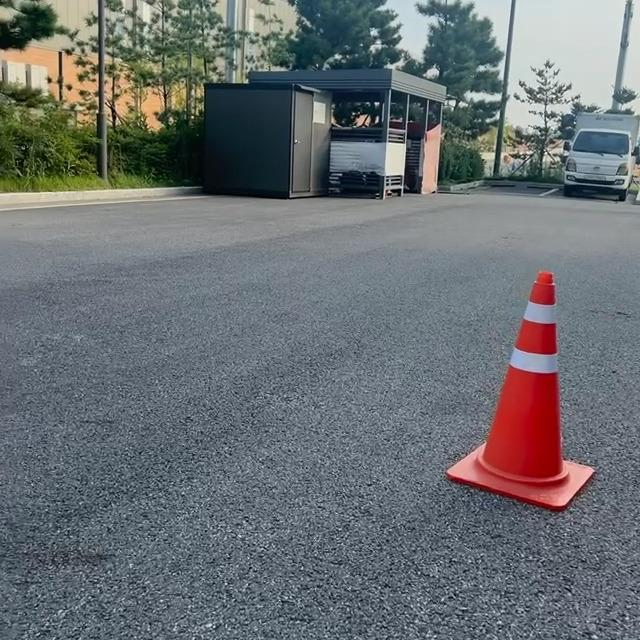fallen_object: (413, 249, 638, 522)
